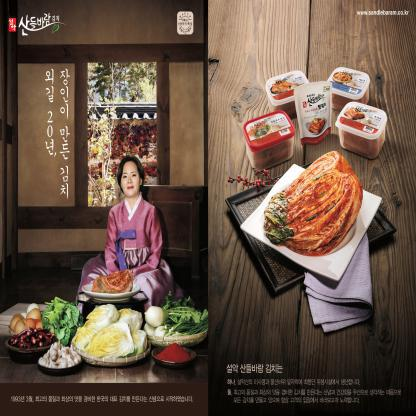kimchi: (265, 141, 373, 268), (80, 265, 138, 306)
